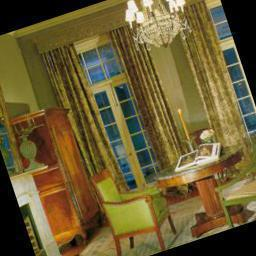Armario: (14, 104, 110, 255)
